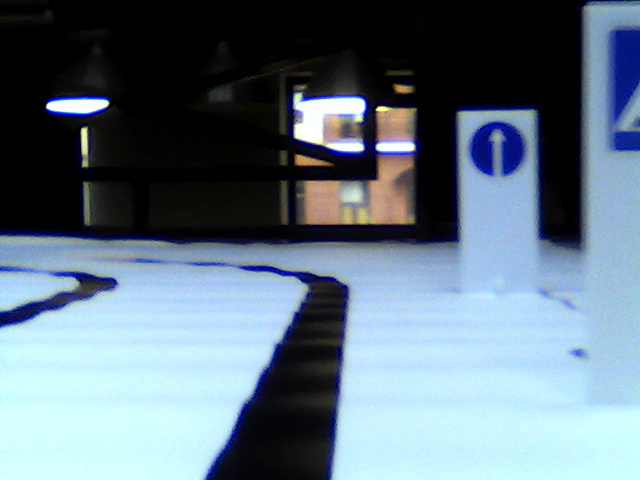forw: (470, 121, 528, 180)
